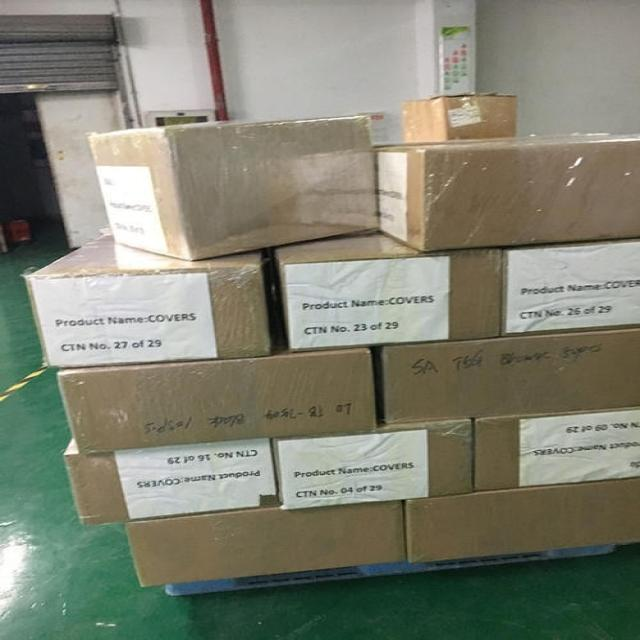box: (88, 114, 380, 262), (56, 345, 379, 455), (22, 234, 285, 368), (374, 132, 639, 252), (270, 228, 503, 351), (370, 327, 640, 424), (123, 500, 404, 588), (402, 477, 639, 562), (63, 436, 282, 526), (271, 418, 474, 510), (471, 407, 640, 492), (502, 237, 639, 337), (402, 92, 517, 142)
